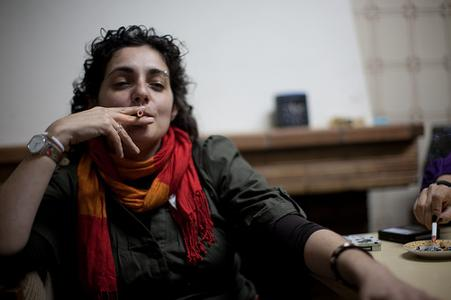person: (1, 25, 438, 300)
